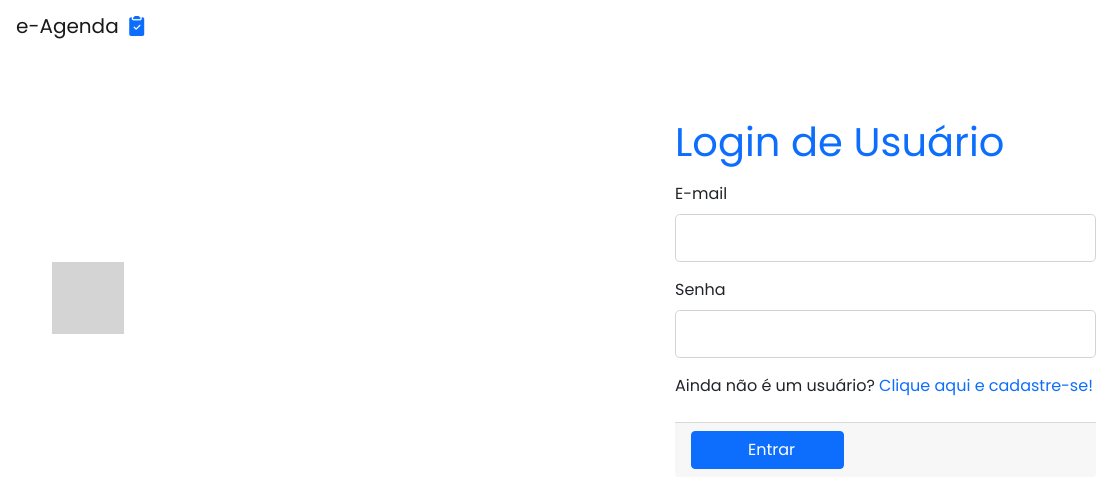
Test: Processo de login do usuário › Deve - Validar senha vazia
Focus the password field named "senha" at [886, 334], box 675,310 -> 1096,358
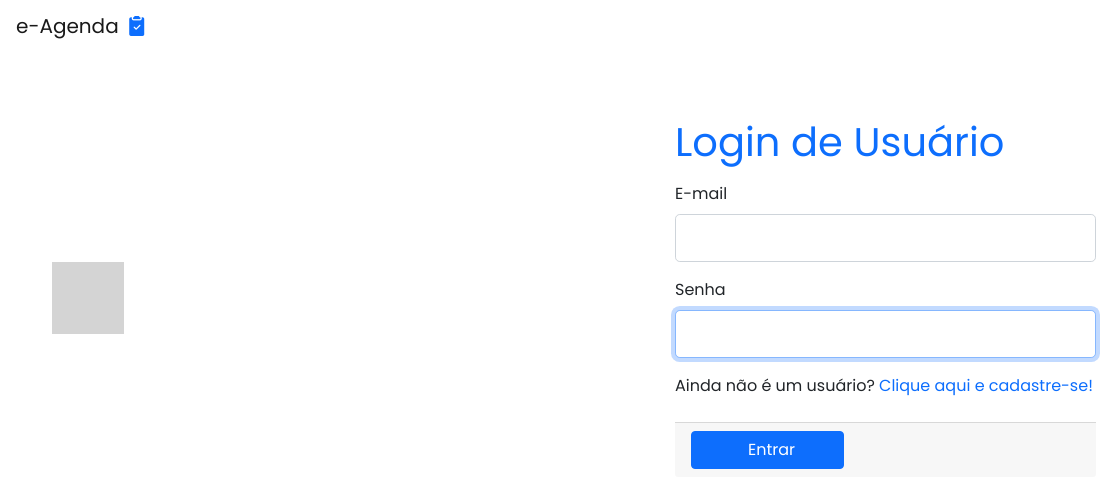
Focus the field named "email" at [886, 238], box 675,214 -> 1096,262
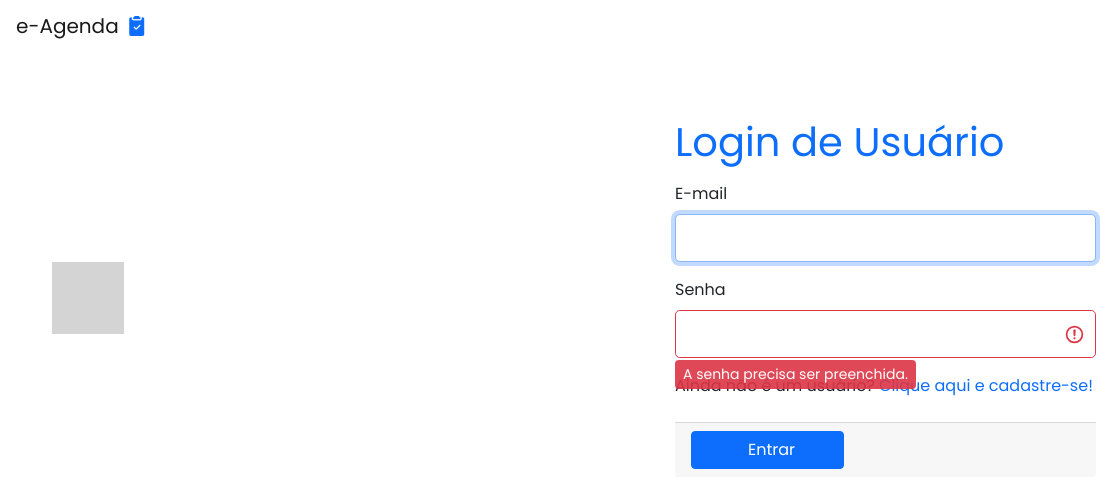
Now the text "A senha precisa ser preenchida." is shown, box 683,364 -> 908,384
